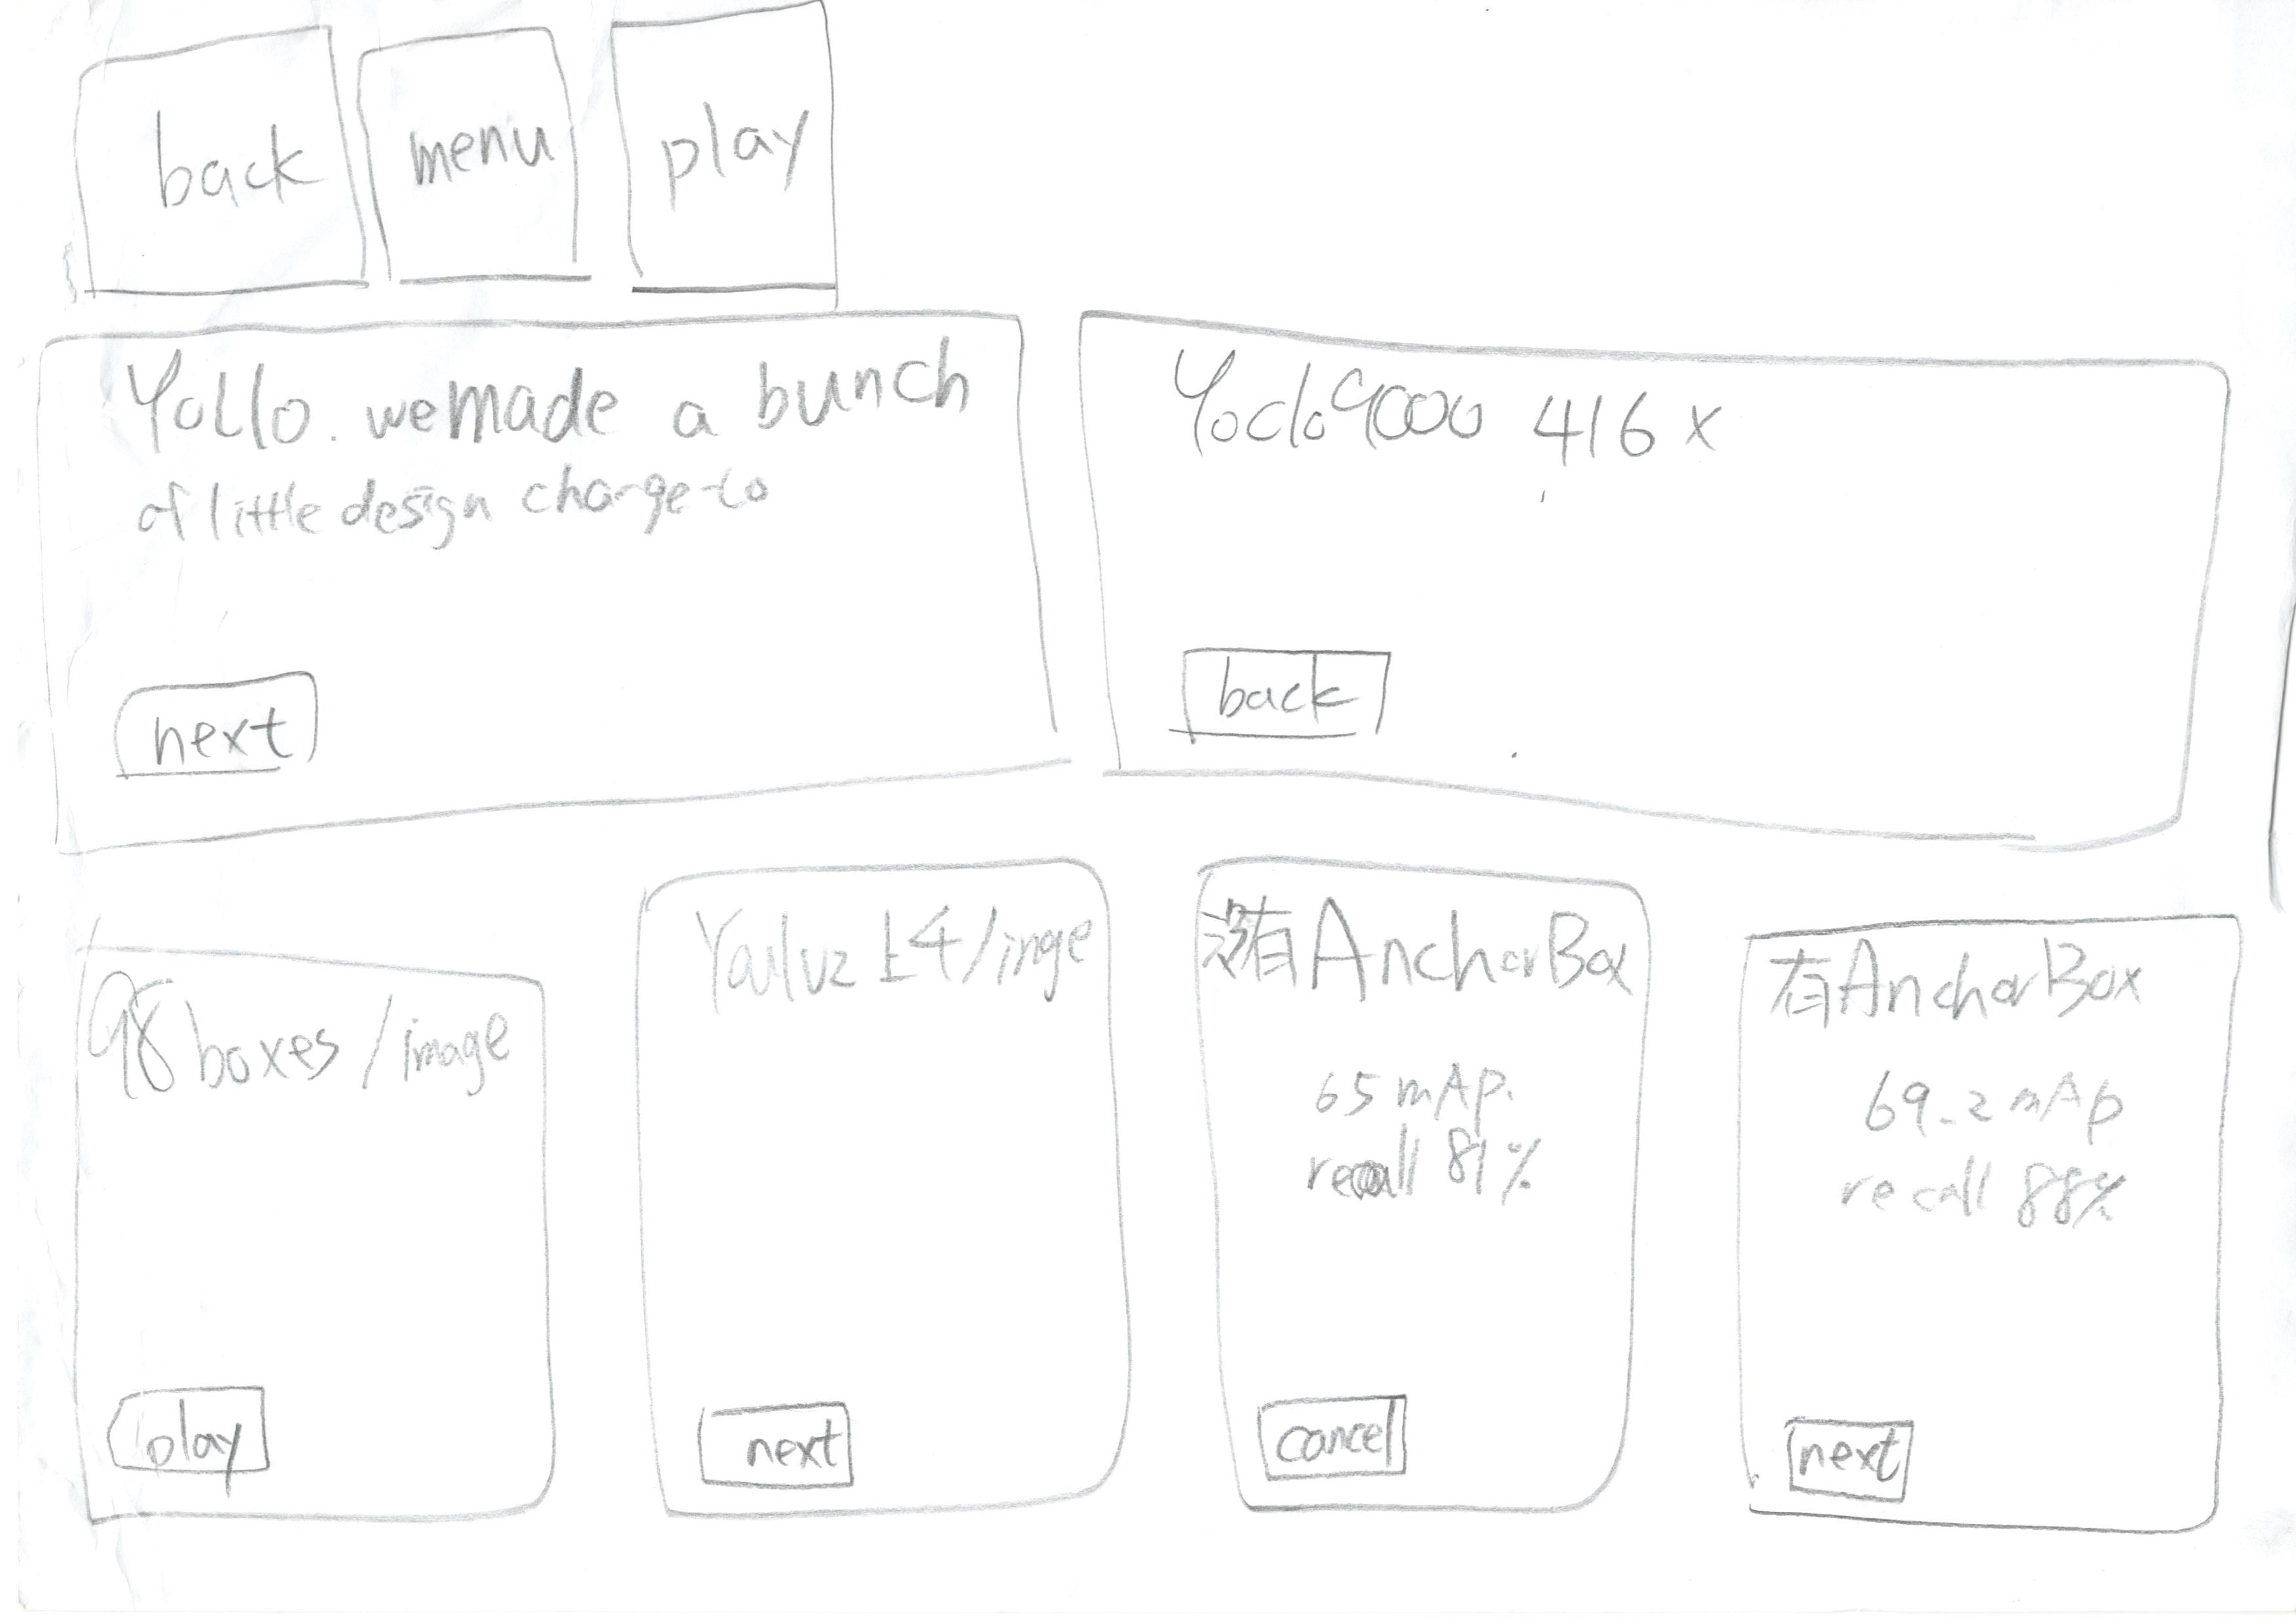back: (49, 19, 367, 302), (1146, 622, 1398, 756)
double: (1067, 255, 2289, 866), (18, 306, 1102, 831)
menu: (339, 5, 601, 308)
next: (91, 645, 376, 812), (1770, 1387, 1964, 1506), (687, 1371, 868, 1492)
play: (592, 7, 876, 313), (95, 1364, 308, 1497)
quadruple: (1675, 849, 2294, 1589), (589, 838, 1174, 1538), (1164, 828, 1688, 1547), (54, 896, 587, 1550)
row: (0, 814, 2296, 1584), (23, 295, 2296, 863), (35, 5, 2296, 320)
small-title: (1122, 352, 1749, 492), (121, 339, 939, 418), (107, 981, 508, 1127), (670, 884, 1088, 1018), (1225, 893, 1631, 1012), (1783, 926, 2178, 1014)
text: (1264, 1032, 1626, 1264), (1834, 1042, 2150, 1262), (102, 476, 807, 538)
